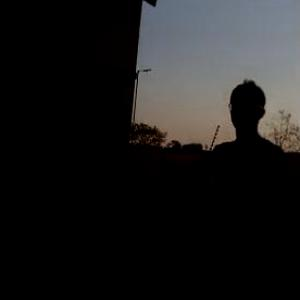follow: (159, 74, 291, 299)
